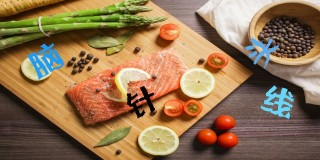头: (246, 35, 278, 69)
线: (261, 82, 294, 121)
脑: (27, 39, 64, 79)
针: (126, 85, 158, 118)
